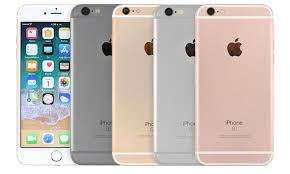iphone: (189, 1, 280, 169)
